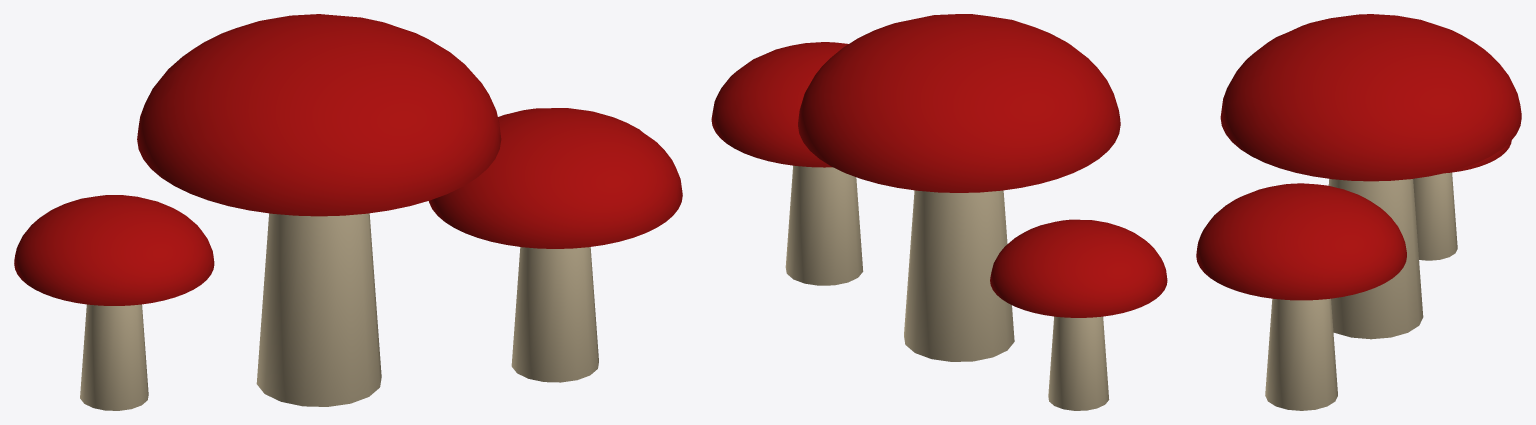
File: mushroom-grove.glb
3 views of the same model, side by side, from view 1: azimuth 30°, elevation 25°; view 2: azimuth 150°, elevation 25°; view 3: azimuth 270°, elevation 25° (orthographic). The views are drawn at different scales.
Visible parts, largest first — view 1: Cap 1, Cap 2, Stem 1, Cap 3, Stem 2, Stem 3; view 2: Cap 1, Stem 1, Cap 3, Cap 2, Stem 2, Stem 3; view 3: Cap 1, Cap 2, Stem 1, Stem 2, Stem 3, Cap 3.
Part boxes in pixels (x1=…): Cap 1: x1=137, y1=14, x2=501, y2=216; Cap 2: x1=429, y1=108, x2=682, y2=248; Stem 1: x1=256, y1=213, x2=381, y2=406; Cap 3: x1=14, y1=195, x2=214, y2=305; Stem 2: x1=511, y1=247, x2=598, y2=382; Stem 3: x1=80, y1=304, x2=148, y2=410; Cap 1: x1=798, y1=14, x2=1120, y2=192; Stem 1: x1=904, y1=190, x2=1014, y2=361; Cap 3: x1=990, y1=219, x2=1167, y2=317; Cap 2: x1=711, y1=42, x2=848, y2=167; Stem 2: x1=785, y1=165, x2=863, y2=285; Stem 3: x1=1048, y1=316, x2=1109, y2=410; Cap 1: x1=1220, y1=14, x2=1521, y2=181; Cap 2: x1=1196, y1=183, x2=1406, y2=300; Stem 1: x1=1328, y1=179, x2=1423, y2=339; Stem 2: x1=1265, y1=298, x2=1337, y2=410; Stem 3: x1=1413, y1=172, x2=1457, y2=260; Cap 3: x1=1445, y1=141, x2=1511, y2=173.
Size of the model in its own units: 0.925 by 0.536 by 0.562.
